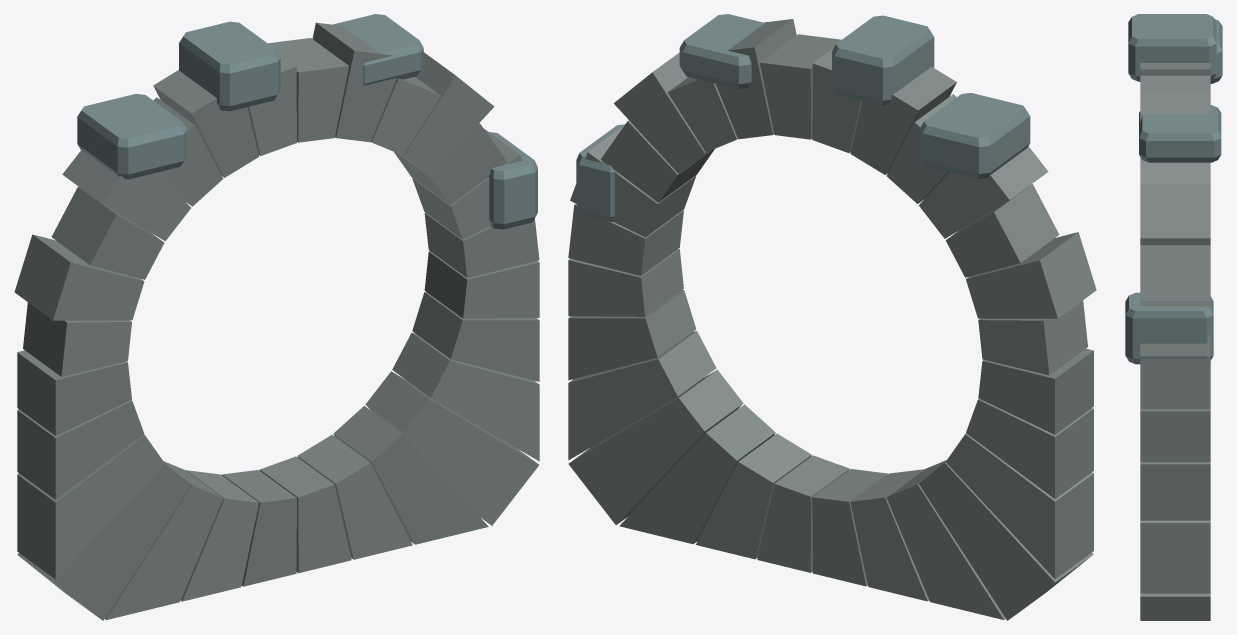
The model's file is ring-procedural.glb.
3 views of the same model, side by side, from view 1: azimuth 30°, elevation 25°; view 2: azimuth 150°, elevation 25°; view 3: azimuth 270°, elevation 25° (orthographic). The views are drawn at different scales.
Visible parts, largest first — view 1: ring; view 2: ring; view 3: ring.
Boxes of the visible parts, x1=… form: ring: x1=14, y1=14, x2=539, y2=620; ring: x1=568, y1=14, x2=1096, y2=620; ring: x1=1125, y1=14, x2=1222, y2=620.
Bounding box in the file's own units: 8.75 × 9.1 × 1.65.
